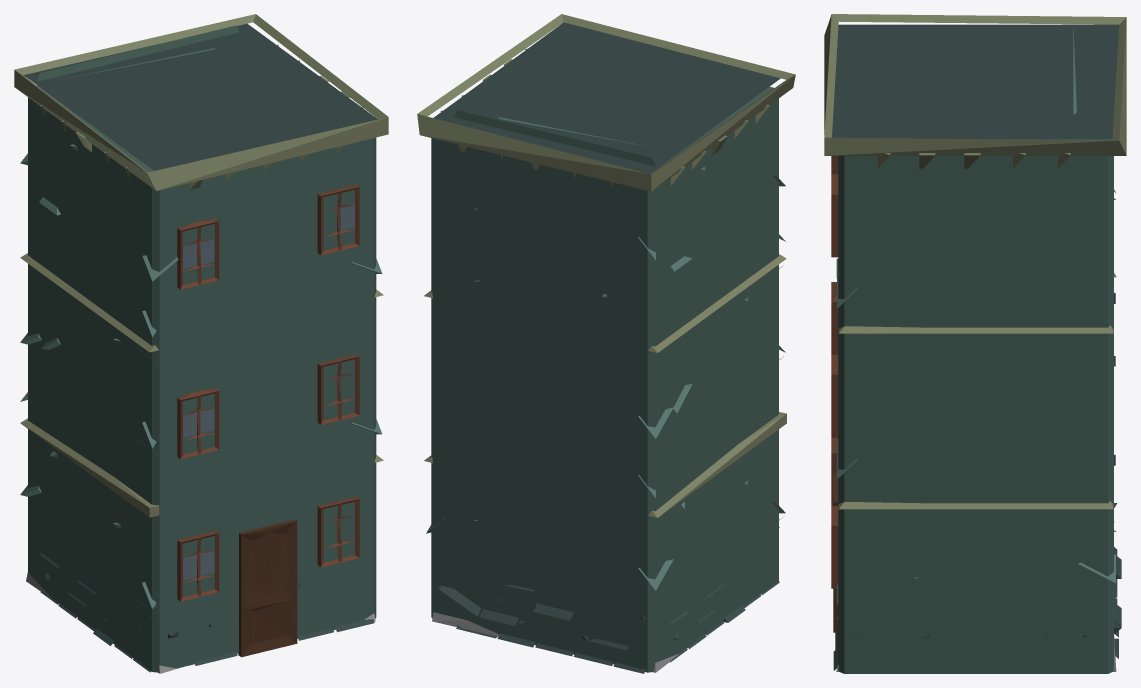
File: 3Story_Small_lod.glb
The picture shows the model from 3 angles, left to right: view 1: azimuth 30°, elevation 25°; view 2: azimuth 150°, elevation 25°; view 3: azimuth 270°, elevation 25°; orthographic projection. The views are drawn at different scales.
Visible parts, largest first — view 1: 3Story_Small_Mat; view 2: 3Story_Small_Mat; view 3: 3Story_Small_Mat.
Part boxes in pixels (x1=…): 3Story_Small_Mat: x1=14, y1=14, x2=388, y2=673; 3Story_Small_Mat: x1=417, y1=14, x2=795, y2=673; 3Story_Small_Mat: x1=824, y1=14, x2=1126, y2=673.
Size of the model in its own units: 1.91 by 3.82 by 1.93.
